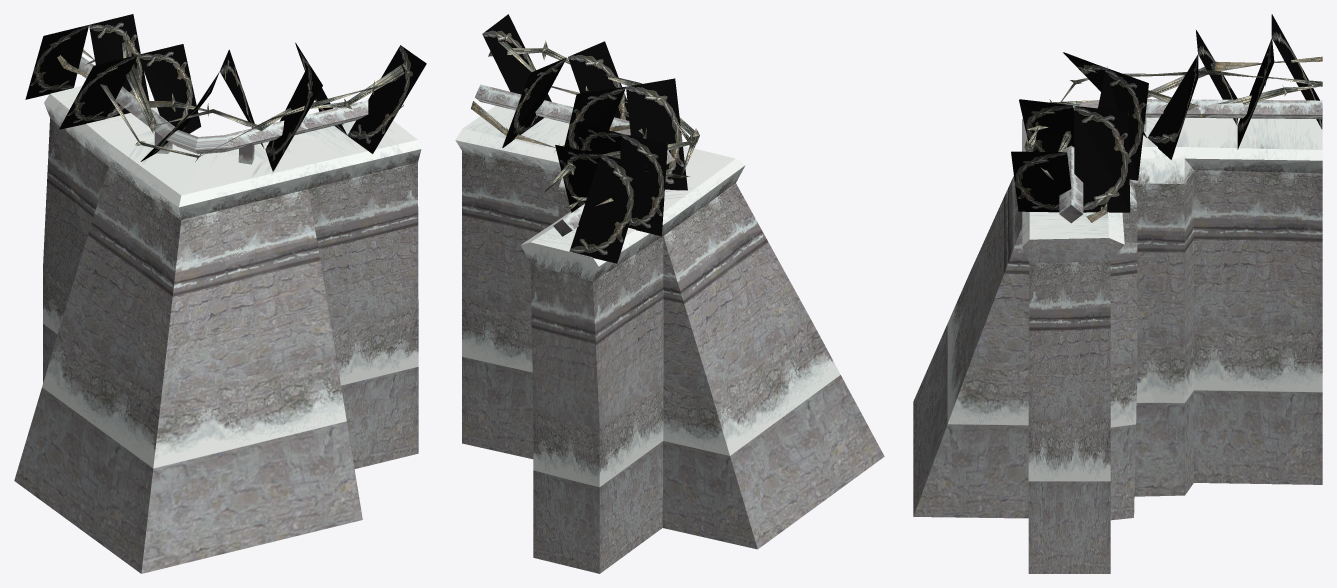
Rendered from C1SMWFWALB10H.obj.
3 renders of one model, left to right at view 1: azimuth 30°, elevation 25°; view 2: azimuth 150°, elevation 25°; view 3: azimuth 270°, elevation 25°, orthographic. The views are drawn at different scales.
Parts seen in each view (by area): view 1: Node 0; view 2: Node 0; view 3: Node 0.
Boxes of the visible parts, <box> form: Node 0: <box>14,14,426,573</box>; Node 0: <box>455,14,884,573</box>; Node 0: <box>913,14,1322,573</box>.
Bounding box in the file's own units: 10.9 × 12.54 × 10.94.
Materials: 3 (3 with a texture image).
